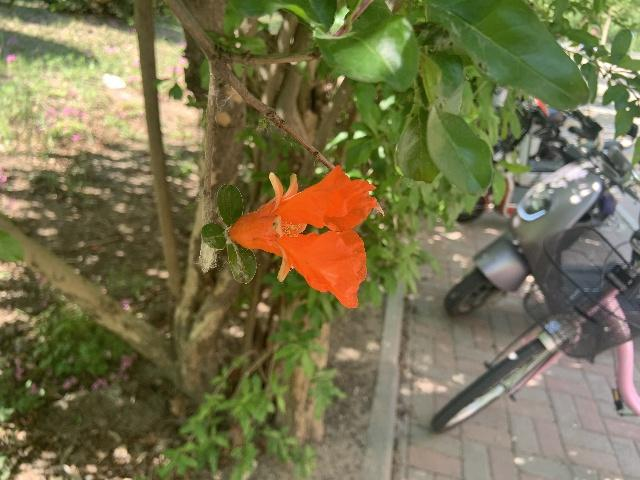flower: (229, 165, 377, 308)
